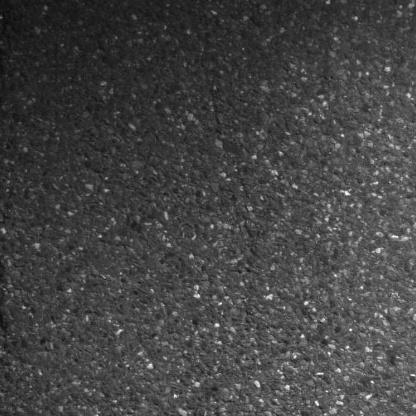Cracks: (0, 228, 11, 416)
